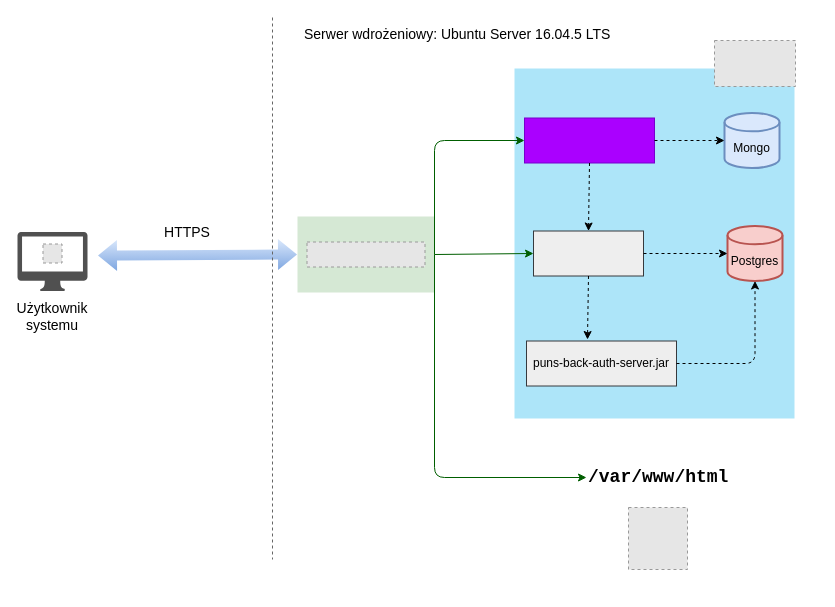
The diagram is 835 pixels wide and 607 high, and some of its shapes have lost their labels. Grey dashed boxes stand in for pictures. Here are the shapes that lost their labels. From the top down, the centre of each, then its label:
At point (589, 140): "node-puns-live-server".
At point (588, 253): "puns-back-core.jar".
